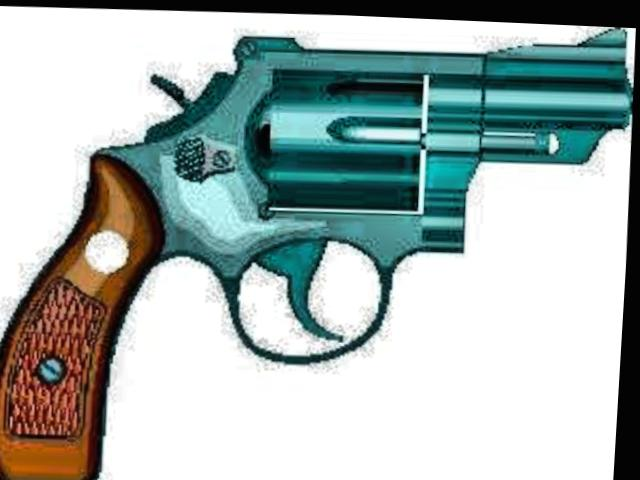pistol: (0, 0, 637, 480)
